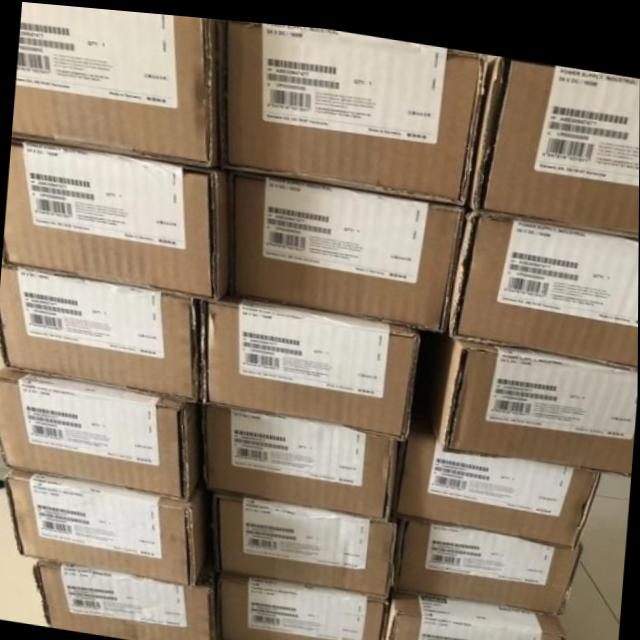box: (224, 16, 489, 197), (230, 163, 466, 325), (2, 137, 227, 298), (13, 2, 220, 163), (202, 290, 421, 432), (451, 199, 639, 360), (472, 46, 640, 226), (428, 326, 638, 465), (0, 265, 202, 400), (0, 366, 198, 498), (395, 422, 603, 537), (3, 469, 208, 583), (203, 399, 398, 511), (394, 509, 584, 608), (213, 488, 395, 590), (33, 558, 221, 640), (219, 570, 389, 640), (385, 582, 567, 640)
